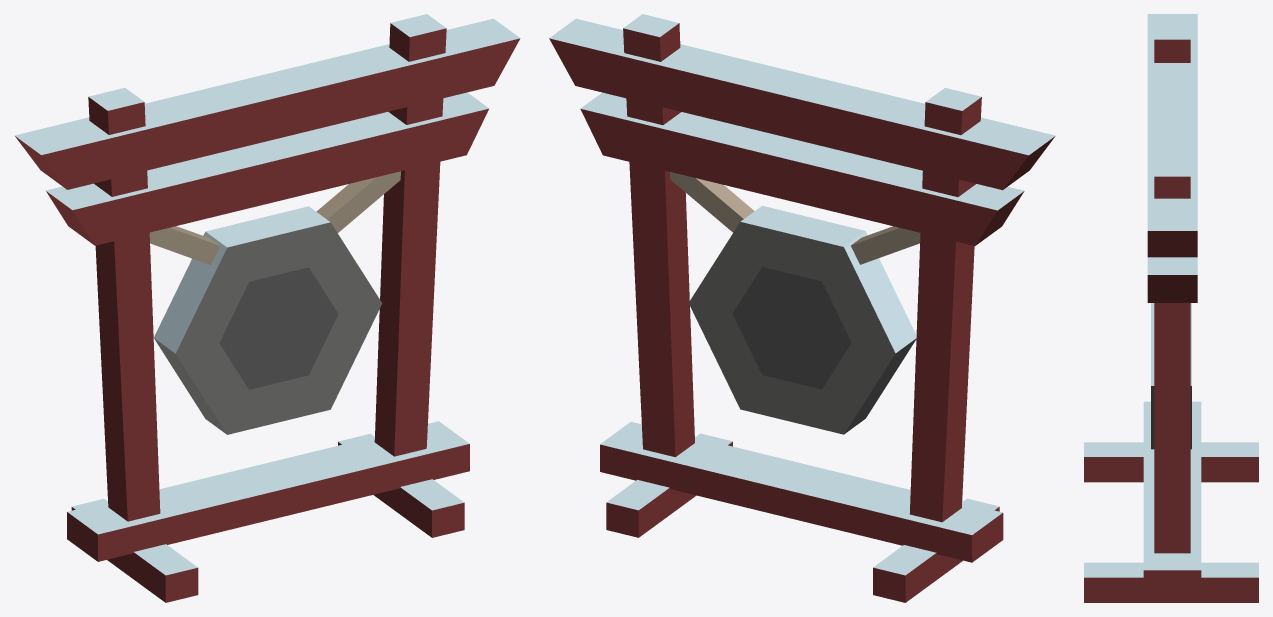
The model's file is SM_Prop_Samurai_Gong_01_Snow.fbx.
3 renders of one model, left to right at view 1: azimuth 30°, elevation 25°; view 2: azimuth 150°, elevation 25°; view 3: azimuth 270°, elevation 25°, orthographic. The views are drawn at different scales.
Parts seen in each view (by area): view 1: SM_Prop_Samurai_Gong_01_Snow; view 2: SM_Prop_Samurai_Gong_01_Snow; view 3: SM_Prop_Samurai_Gong_01_Snow.
Part boxes in pixels (x1,y1,x2,y2): SM_Prop_Samurai_Gong_01_Snow: [14, 14, 520, 602]; SM_Prop_Samurai_Gong_01_Snow: [549, 14, 1055, 602]; SM_Prop_Samurai_Gong_01_Snow: [1084, 14, 1258, 602].
Size of the model in its own units: 85.78 by 80.26 by 29.2.
Materials: 1 (1 with a texture image).
